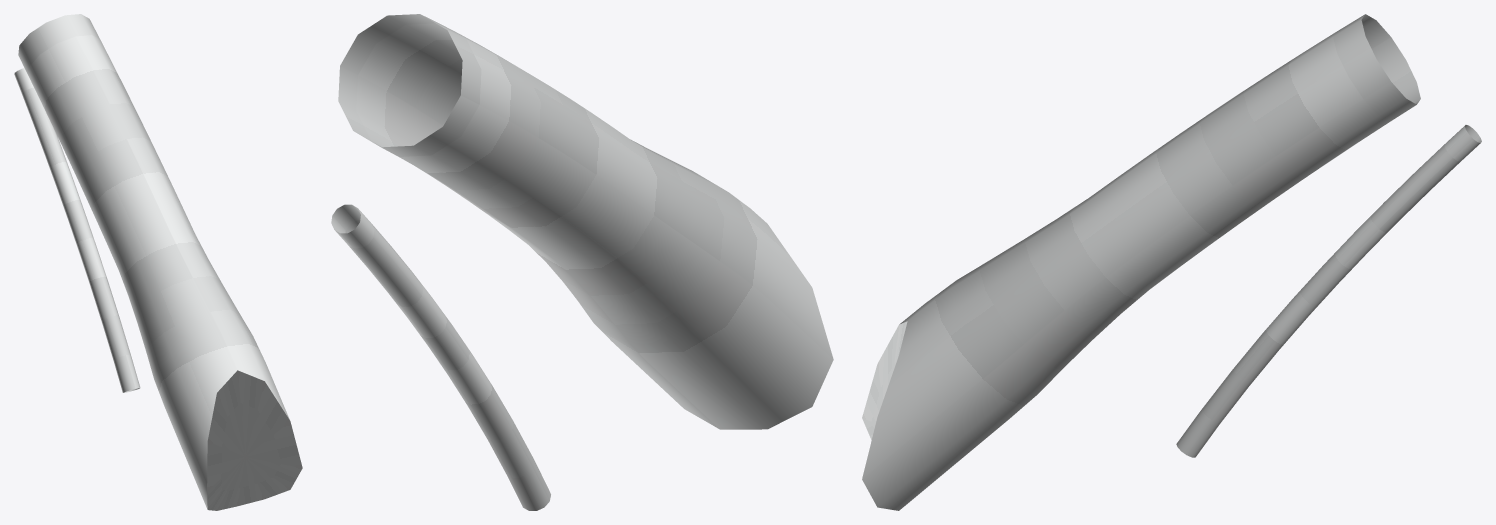
The model's file is luminairearm_laupsweep10ft_c0_pedestal.obj.
The picture shows the model from 3 angles, left to right: view 1: azimuth 30°, elevation 25°; view 2: azimuth 150°, elevation 25°; view 3: azimuth 270°, elevation 25°; orthographic projection. The views are drawn at different scales.
Visible parts, largest first — view 1: luminairearm_laupsweep10ft_c0_pedestal; view 2: luminairearm_laupsweep10ft_c0_pedestal; view 3: luminairearm_laupsweep10ft_c0_pedestal.
Part boxes in pixels (x1,y1,x2,y2): luminairearm_laupsweep10ft_c0_pedestal: (14,14,302,510); luminairearm_laupsweep10ft_c0_pedestal: (331,14,833,510); luminairearm_laupsweep10ft_c0_pedestal: (862,14,1481,510).
Size of the model in its own units: 0.3375 by 1.23 by 1.44.
